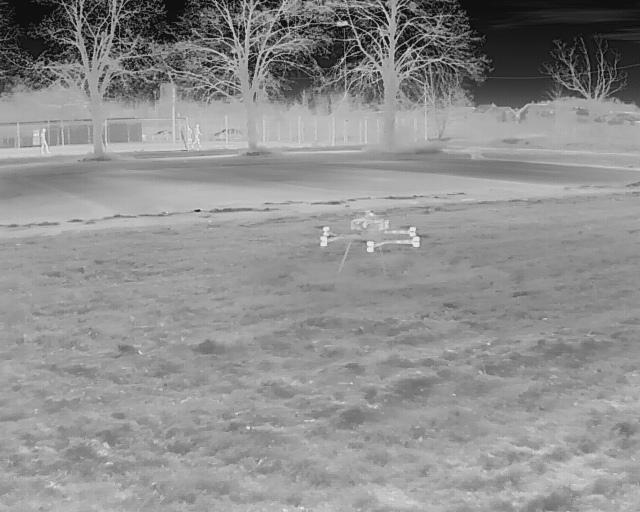drone: (294, 204, 430, 284)
